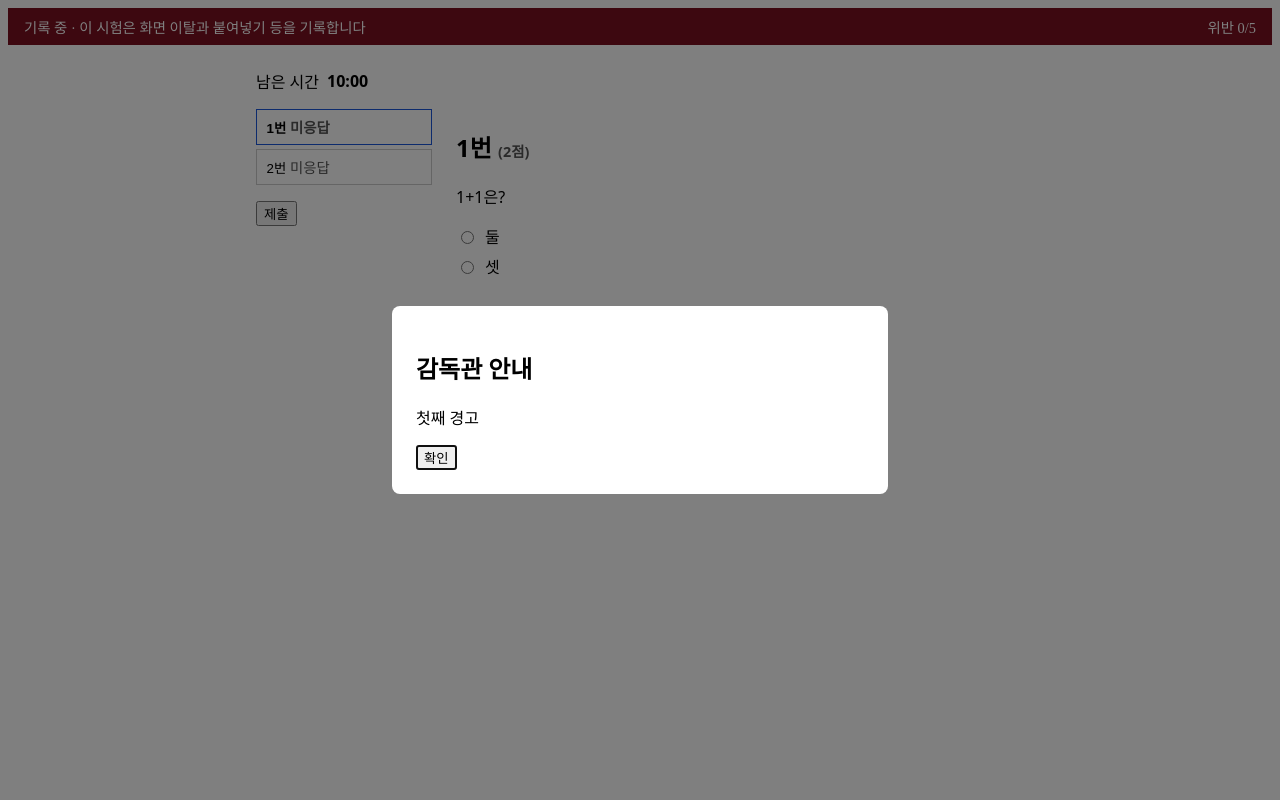
Test: 감독관 경고 › 경고가 연달아 오면 하나씩 보이고 [확인]마다 다음 건이 나타난다
Check: the text "1+1은?" is shown, box [456,186,505,208]
Check: the dialog shows "첫째 경고", box [416,410,479,427]
Click the button "확인".
click(436, 457)  # box [416,445,456,470]
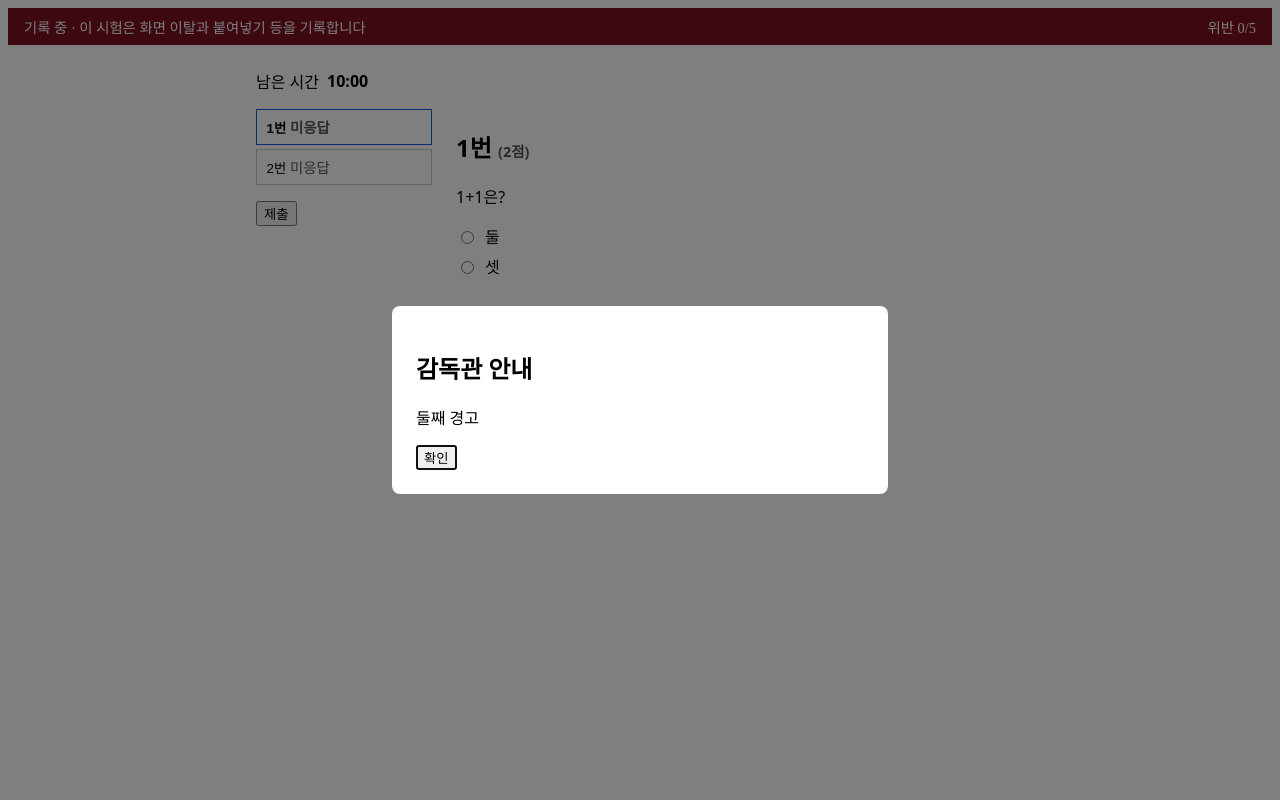
Check: the dialog shows "둘째 경고", box [416,410,479,427]
Check: the text "첫째 경고" is gone
Click the button "확인".
click(436, 457)  # box [416,445,456,470]
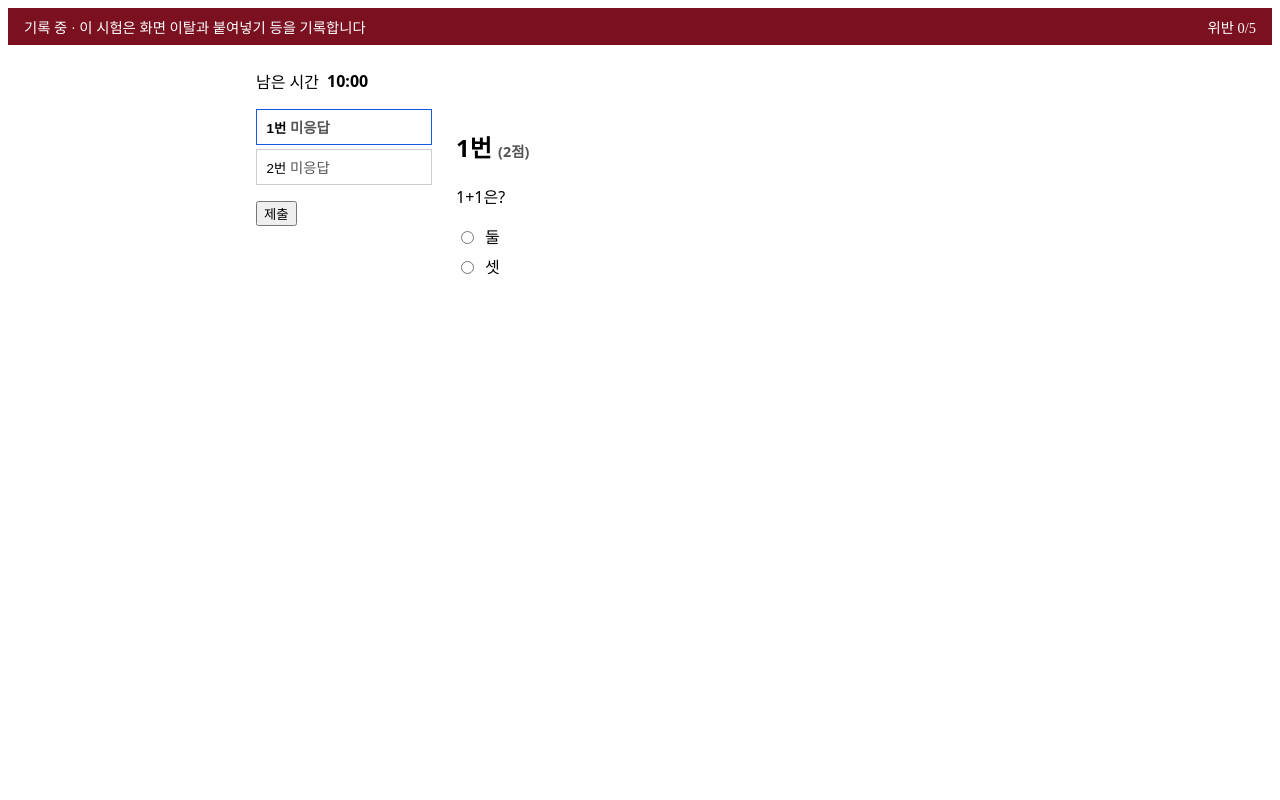
Check: the dialog is gone
